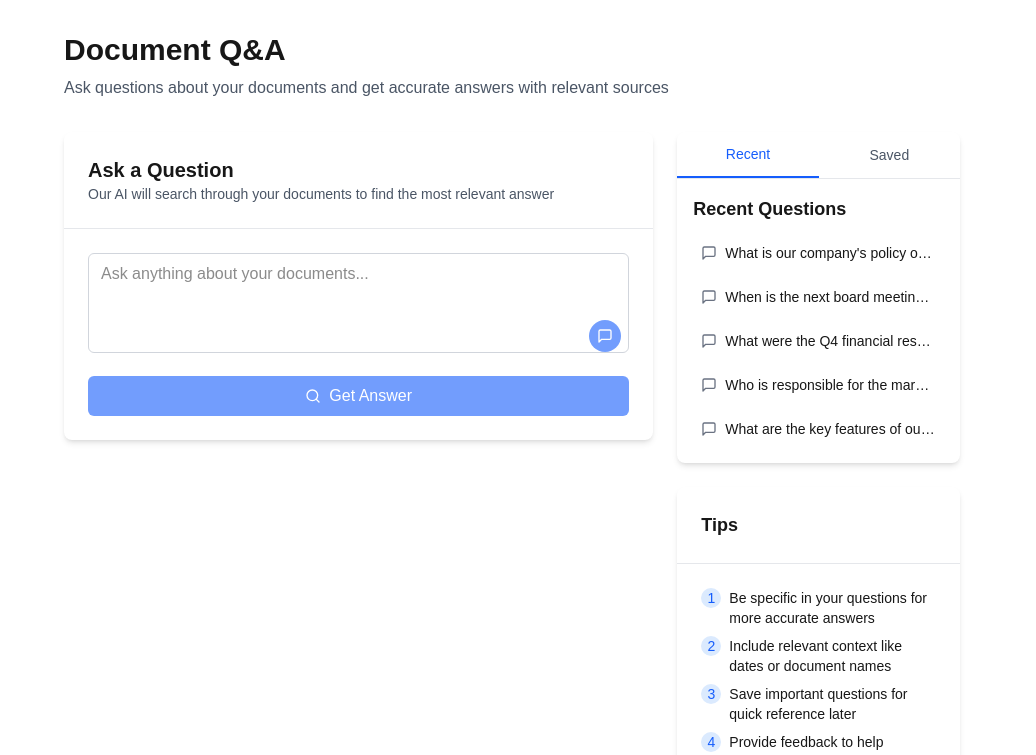
Test: QAPage › switches between tabs
Expected: the heading "Recent Questions" is shown, [693,199,846,219]
Click on Saved tab
Click the button "Saved".
click(889, 155)  # box [819,132,960,178]
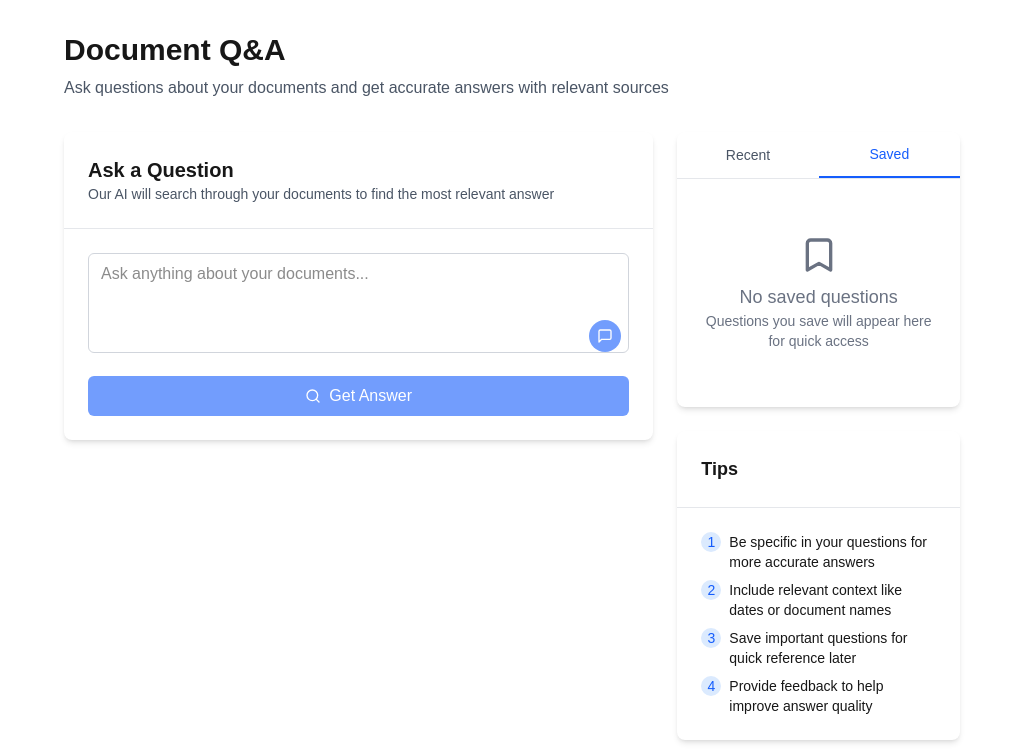
Result: the heading "No saved questions" is shown at [740,283,898,311]
